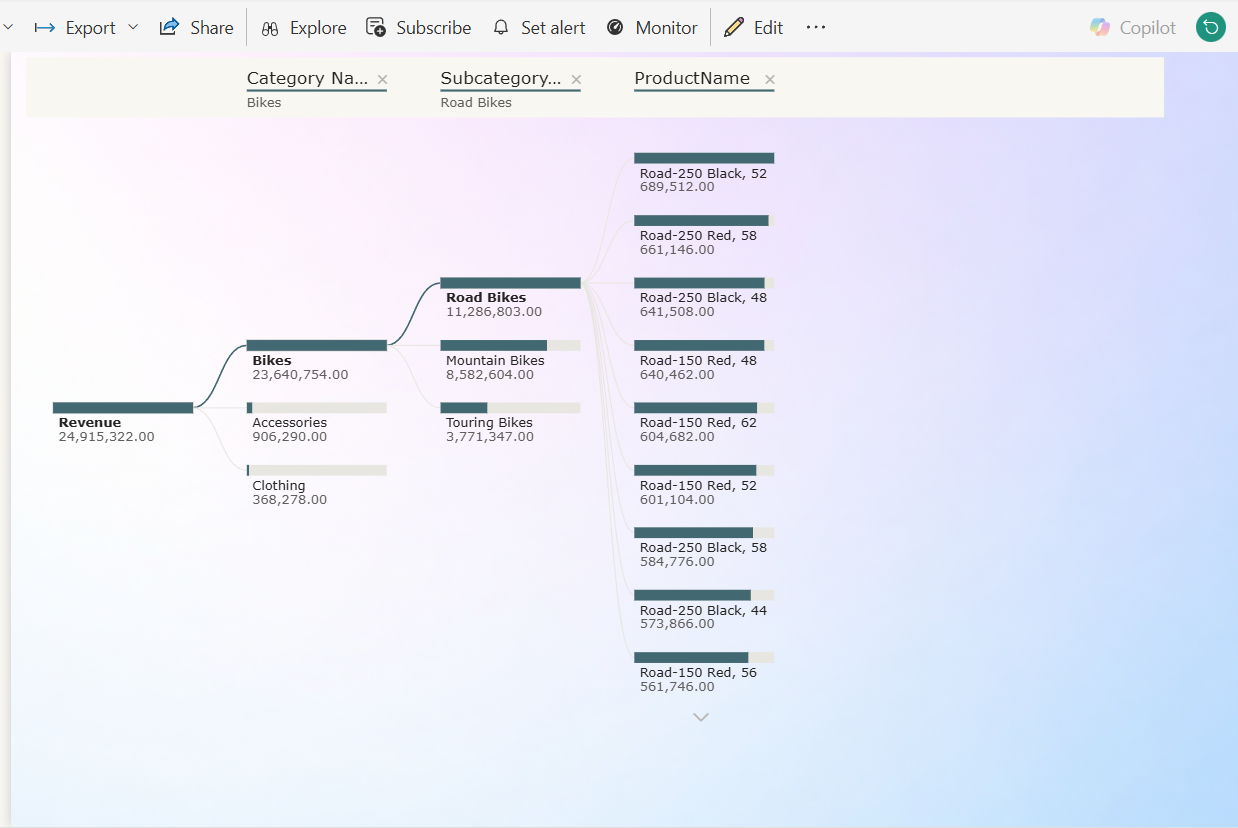

The page's visual inventory and layout, read from the dashboard file:
{"tool":"powerbi","page":{"name":"DT","canvas":[1280,720],"ordinal":5},"visuals":[{"type":"decompositionTreeVisual","fields":{"Analyze":["All Measures.Revenue"],"ExplainBy":["d-Categories.Category Name","d-Subcategories.SubcategoryName","d-Products.ProductName"]},"box":[9.7,0,1067.1,638.6],"z":0}]}

Visuals, with their boxes on the page's 1280x720 design canvas (x1, y1, x2, y2). These are canvas units, not pixel positions in the 1238x828 screenshot, which may show the page scaled, cropped or inside an application window:
decompositionTreeVisual - All Measures.Revenue x d-Categories.Category Name: <region>10, 0, 1077, 639</region>
